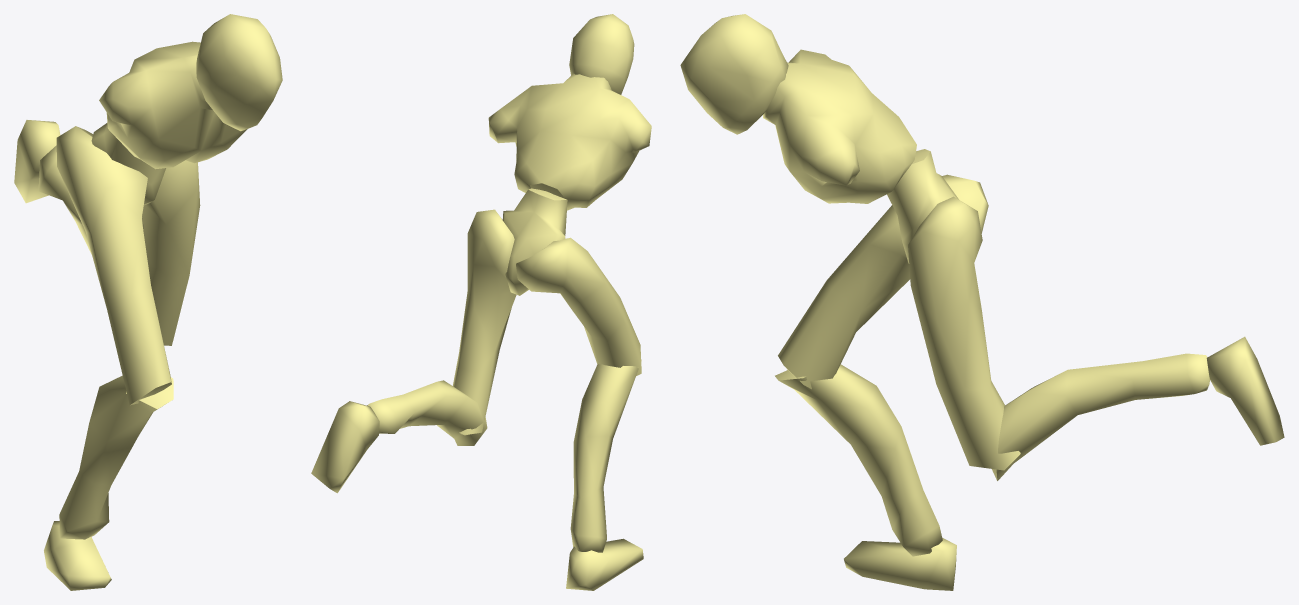
File: filth5.obj
3 renders of one model, left to right at view 1: azimuth 30°, elevation 25°; view 2: azimuth 150°, elevation 25°; view 3: azimuth 270°, elevation 25°, orthographic. The views are drawn at different scales.
Parts seen in each view (by area): view 1: Melee_Husk; view 2: Melee_Husk; view 3: Melee_Husk.
Part boxes in pixels (x1=…): Melee_Husk: x1=14, y1=14, x2=282, y2=590; Melee_Husk: x1=311, y1=14, x2=651, y2=590; Melee_Husk: x1=680, y1=14, x2=1284, y2=590.
Size of the model in its own units: 22.16 by 64.77 by 58.74.
